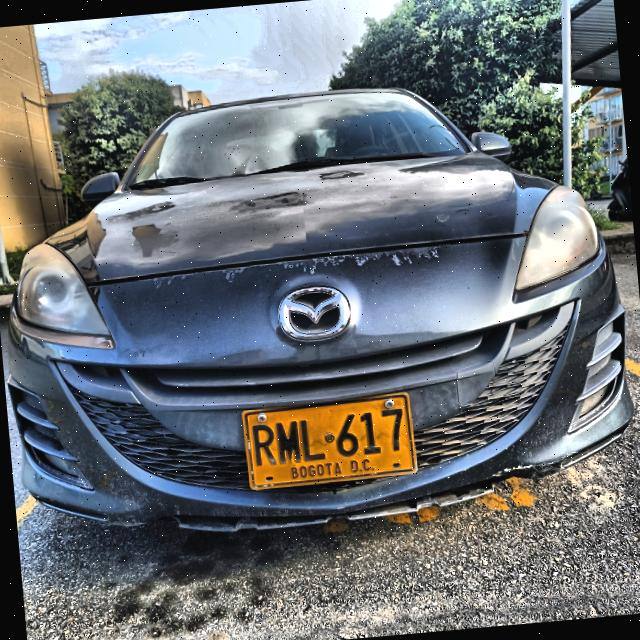1: (357, 409, 383, 455)
6: (332, 412, 362, 458)
7: (378, 407, 408, 453)
L: (298, 417, 326, 462)
M: (274, 418, 302, 465)
R: (249, 422, 278, 468)
